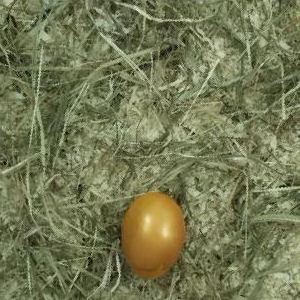egg: (121, 191, 187, 278)
